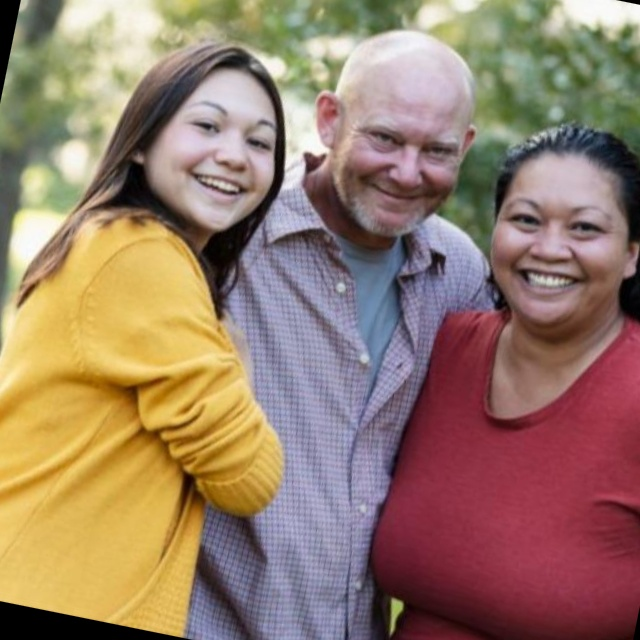Sin_Casco_Mascarrilla: (294, 14, 498, 249), (116, 25, 313, 238), (475, 112, 640, 347)
